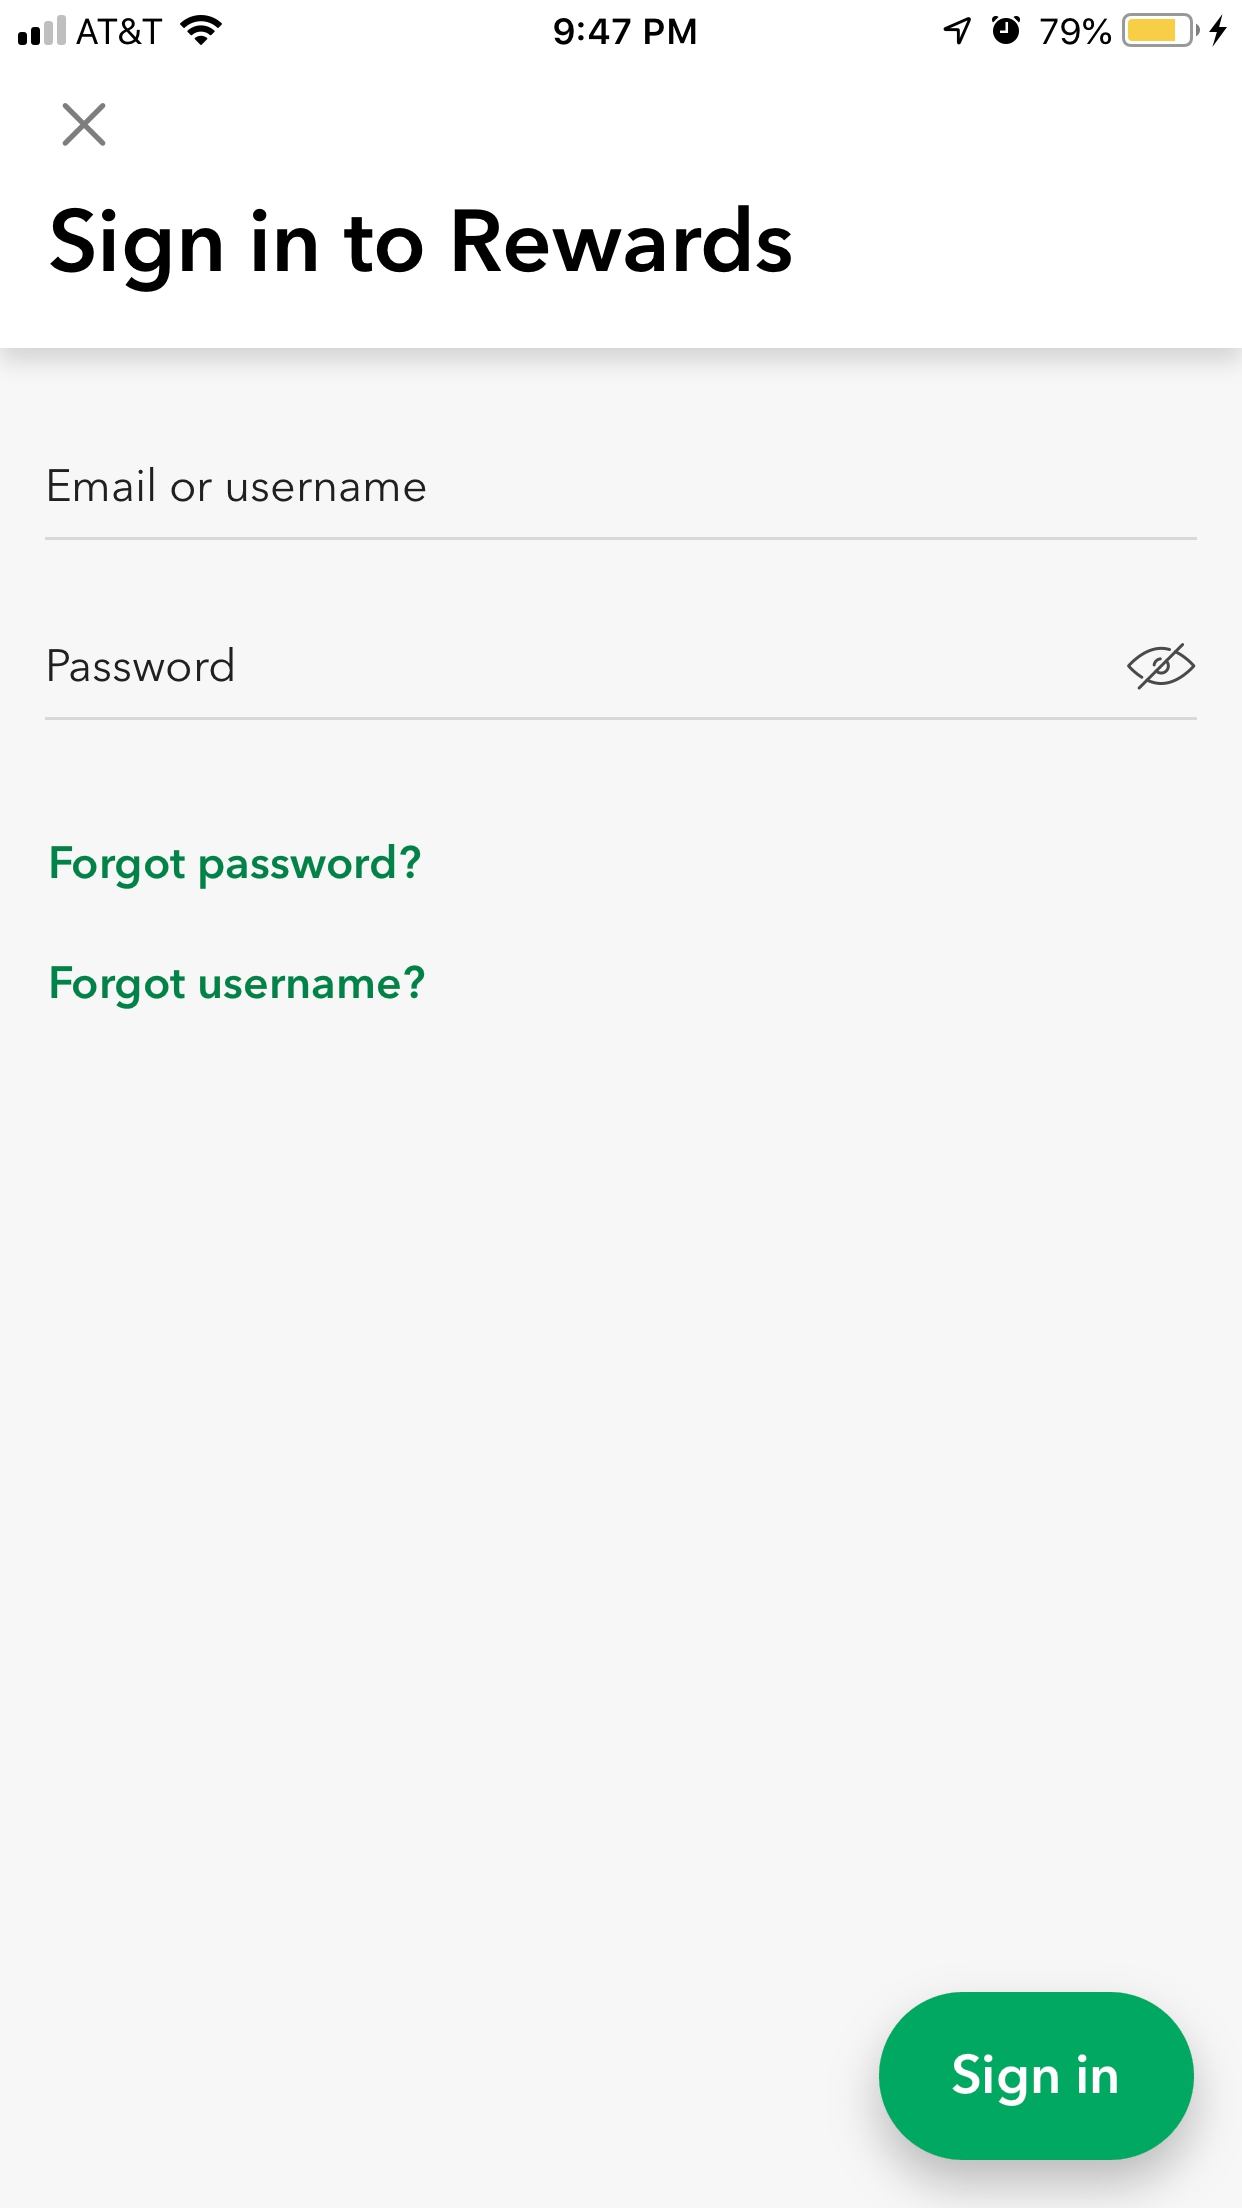EditText: (45, 646, 1198, 720), (45, 467, 1198, 541)
Icon: (1127, 643, 1197, 692), (62, 103, 108, 149)
Text: (50, 205, 792, 294), (52, 845, 422, 892), (52, 964, 426, 1010), (49, 467, 426, 503), (49, 646, 235, 682)
TextButton: (878, 1991, 1195, 2161)
UpperTaskBar: (2, 2, 1242, 49)
